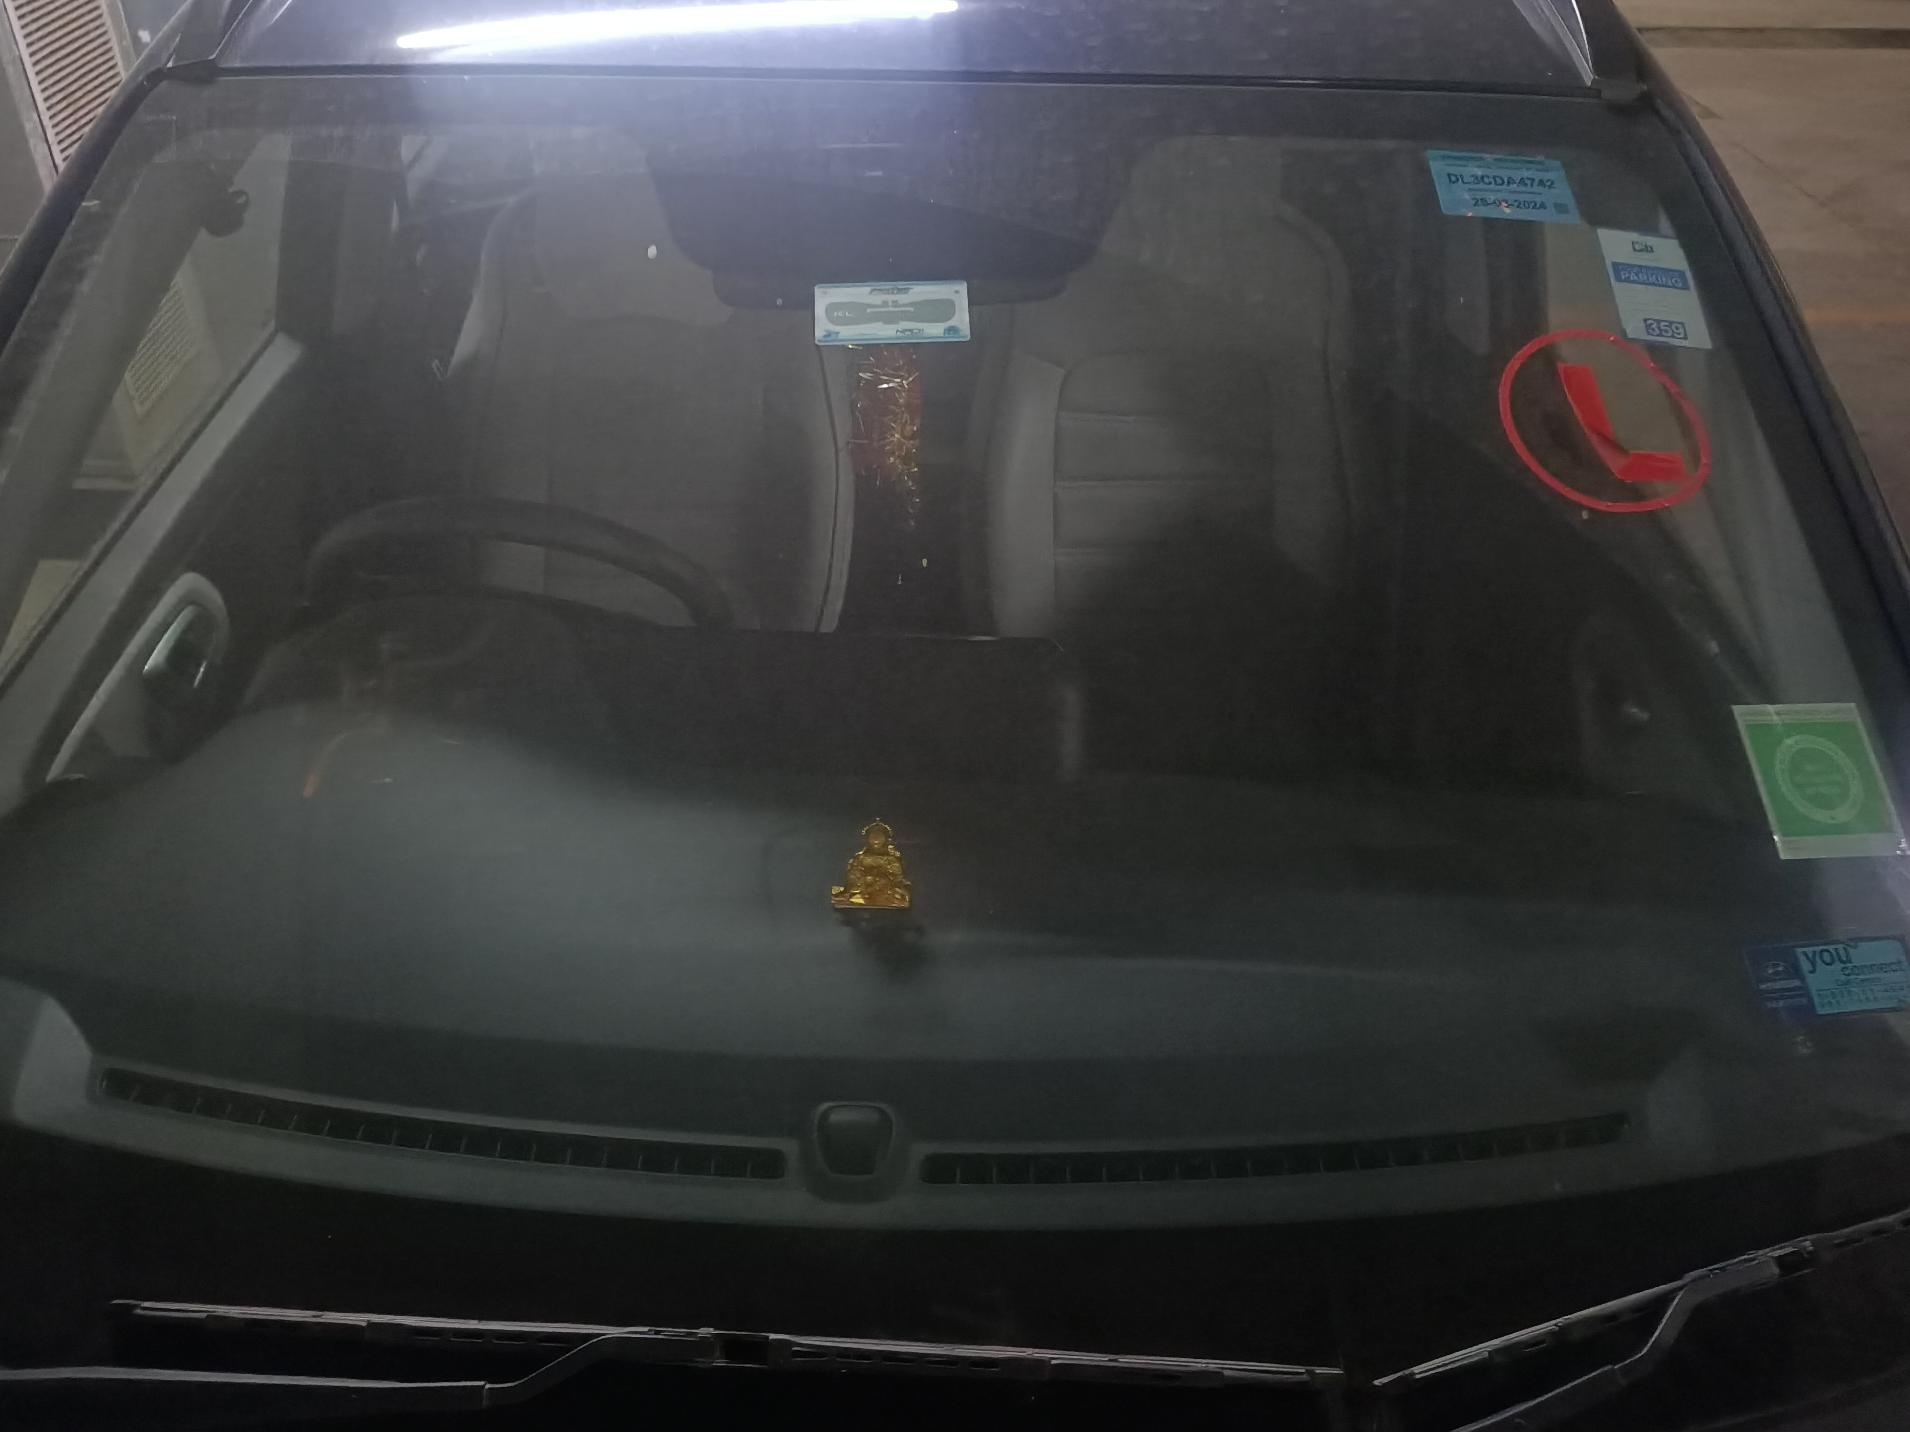FastTag: (791, 260, 1009, 363)
not a FastTag: (1475, 331, 1745, 523), (1711, 662, 1910, 887), (1719, 921, 1910, 1039), (1599, 221, 1733, 364), (1430, 147, 1605, 238)
